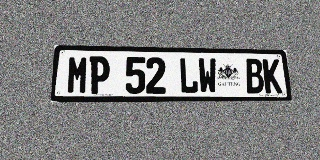2: (146, 57, 166, 94)
5: (126, 57, 145, 94)
B: (245, 59, 265, 93)
K: (262, 59, 282, 93)
L: (179, 58, 199, 94)
M: (66, 56, 89, 94)
P: (88, 56, 110, 94)
W: (198, 58, 218, 93)
